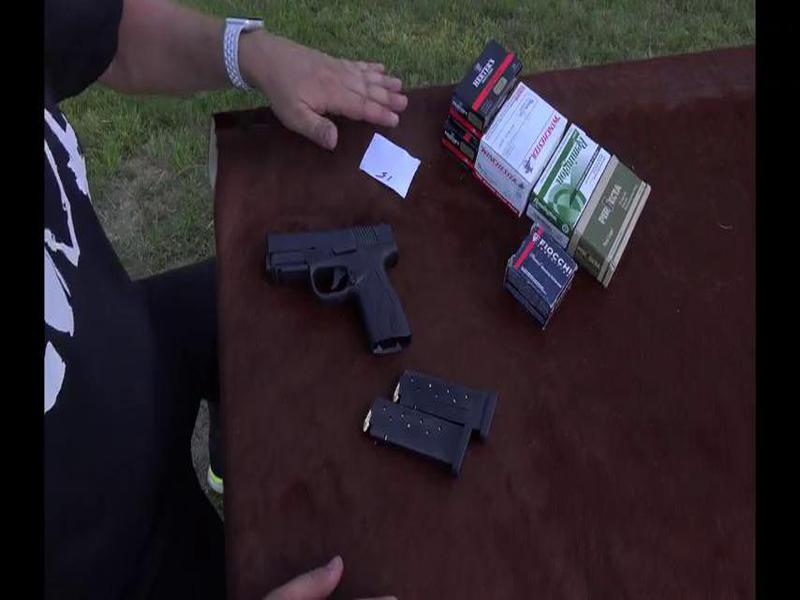Pistola: (259, 217, 415, 363)
